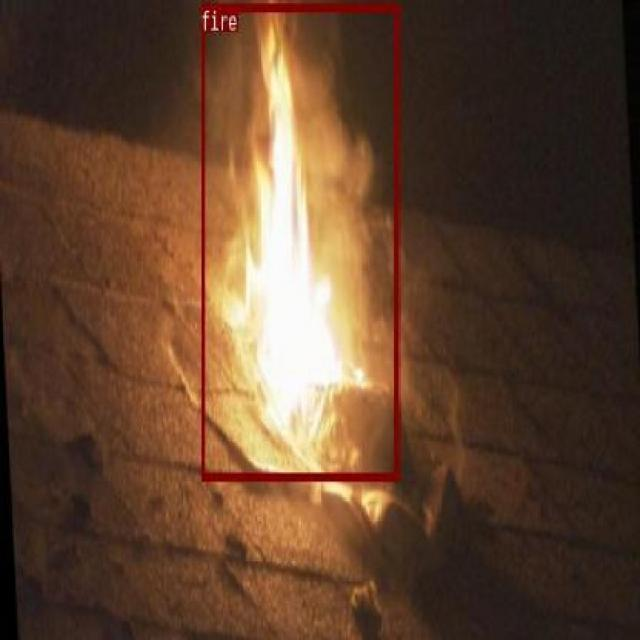Fire: (199, 3, 398, 480)
